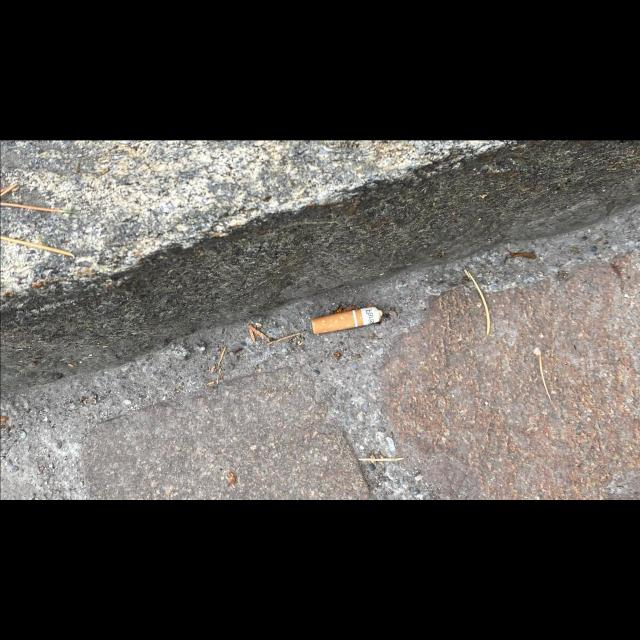cigarette: (310, 306, 382, 335)
